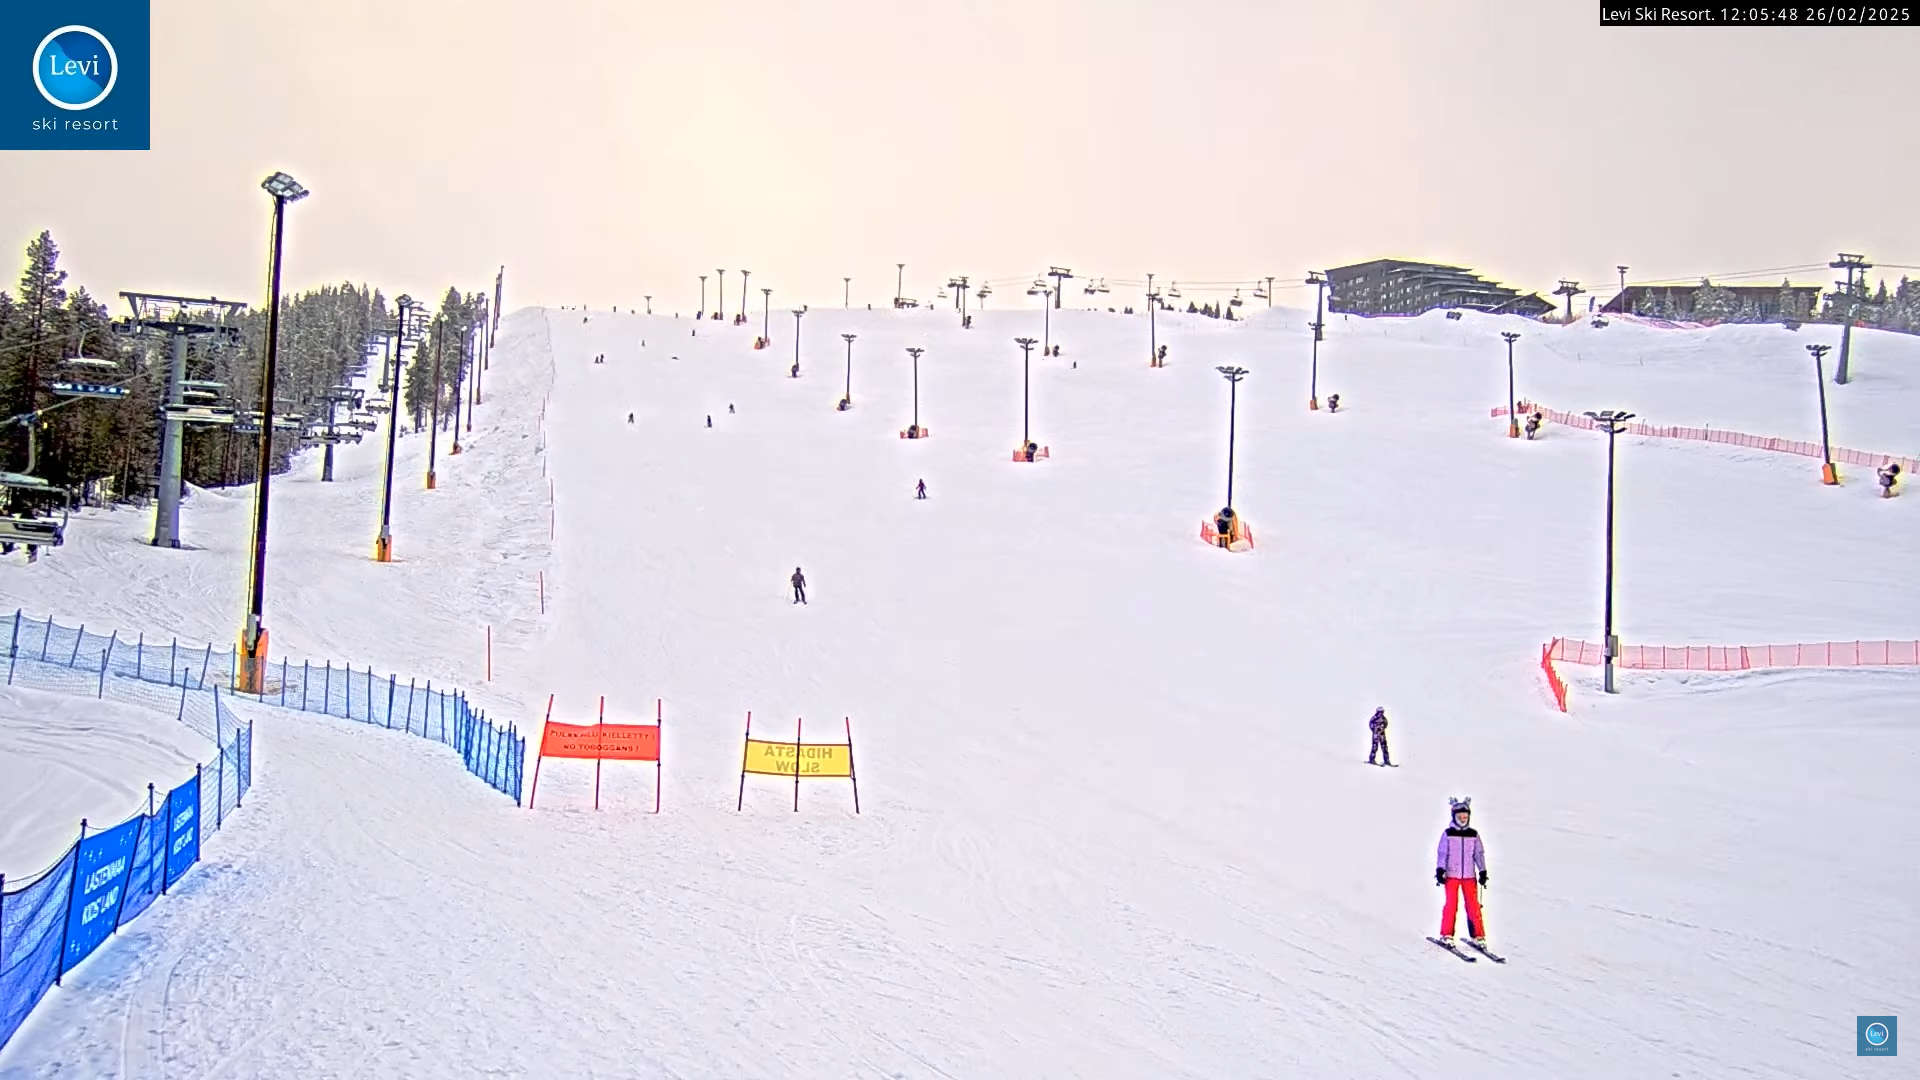skier: (1415, 793, 1506, 973), (1358, 702, 1404, 774), (783, 564, 812, 612)
